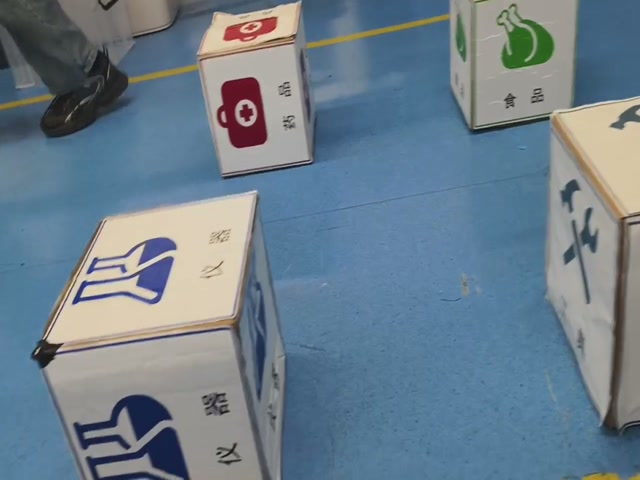Cube_ins: (33, 190, 258, 355)
Cube_medicine: (195, 9, 297, 57)
Cube_tool: (548, 96, 640, 221)
